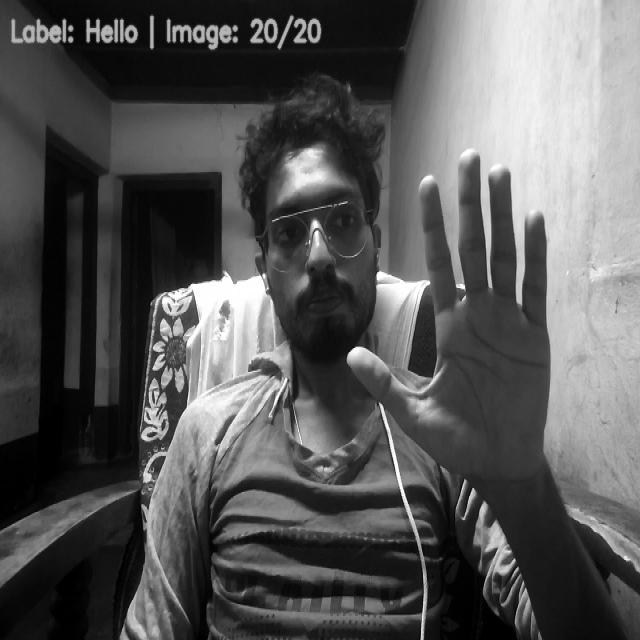Hello: (352, 147, 556, 485)
